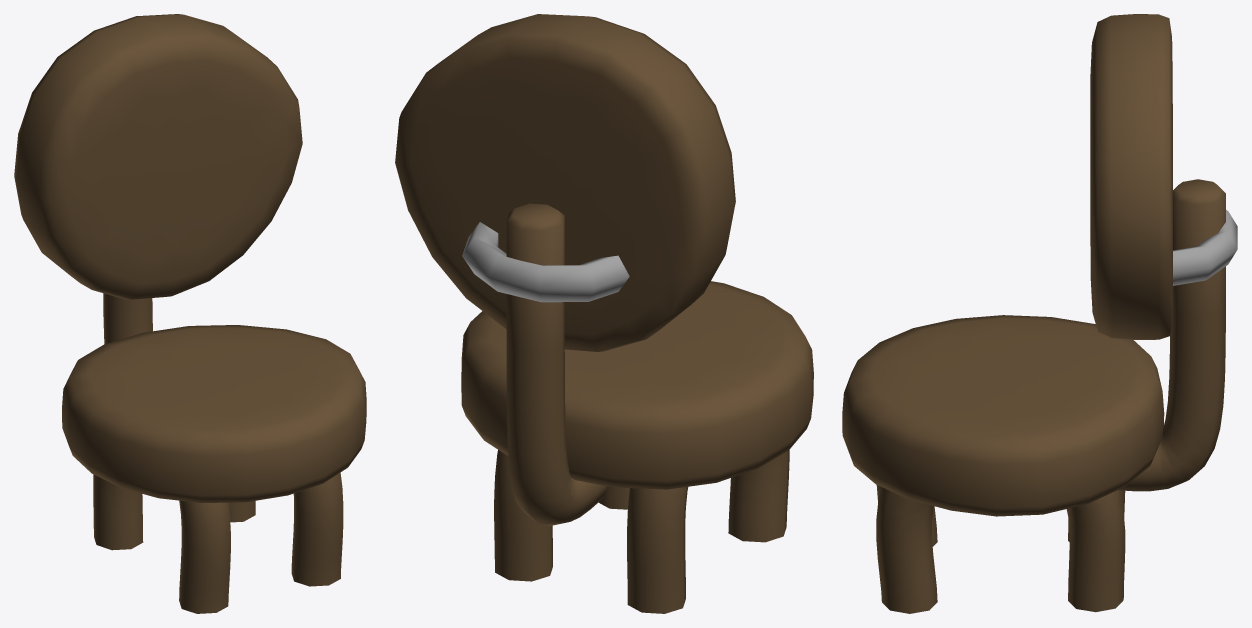
The model's file is Chair.fbx.
The picture shows the model from 3 angles, left to right: view 1: azimuth 30°, elevation 25°; view 2: azimuth 150°, elevation 25°; view 3: azimuth 270°, elevation 25°; orthographic projection. The views are drawn at different scales.
Visible parts, largest first — view 1: Chair; view 2: Chair; view 3: Chair.
Part boxes in pixels (bbox=[...]): Chair: bbox=[14, 14, 366, 613]; Chair: bbox=[395, 14, 813, 613]; Chair: bbox=[842, 14, 1237, 613].
Size of the model in its own units: 0.5078 by 0.8954 by 0.598.
